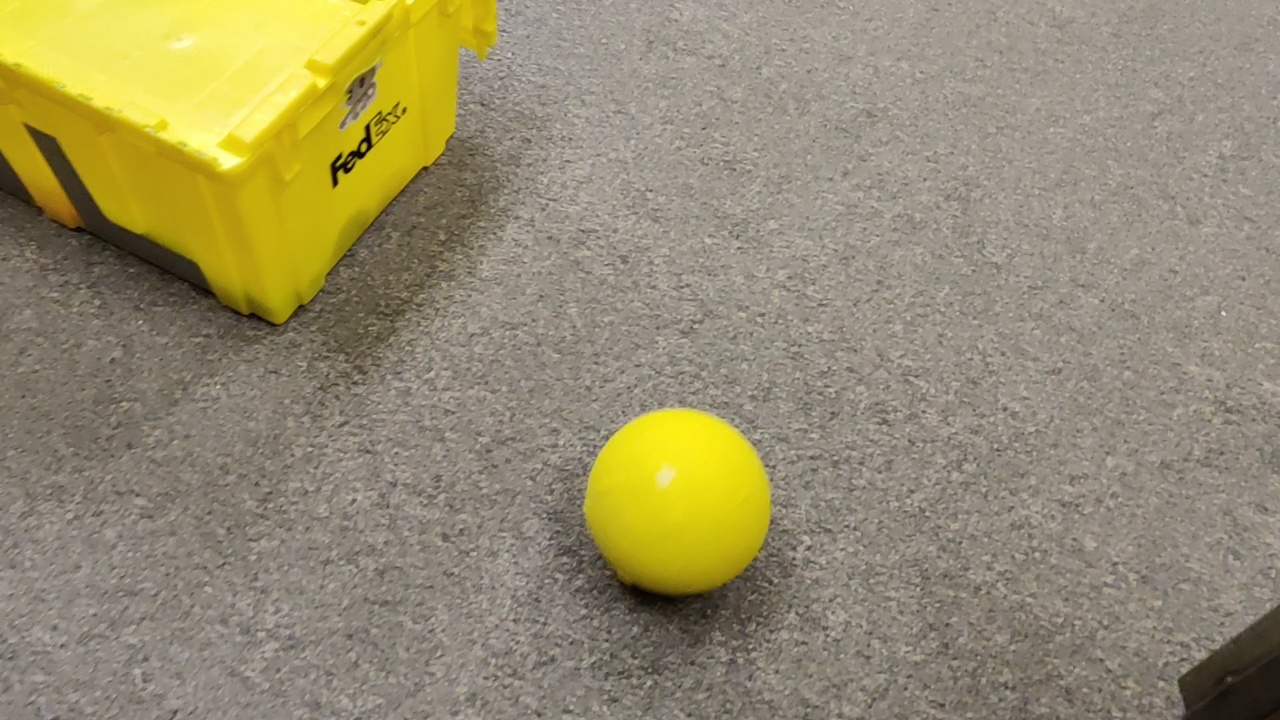Ball: (577, 407, 777, 589)
